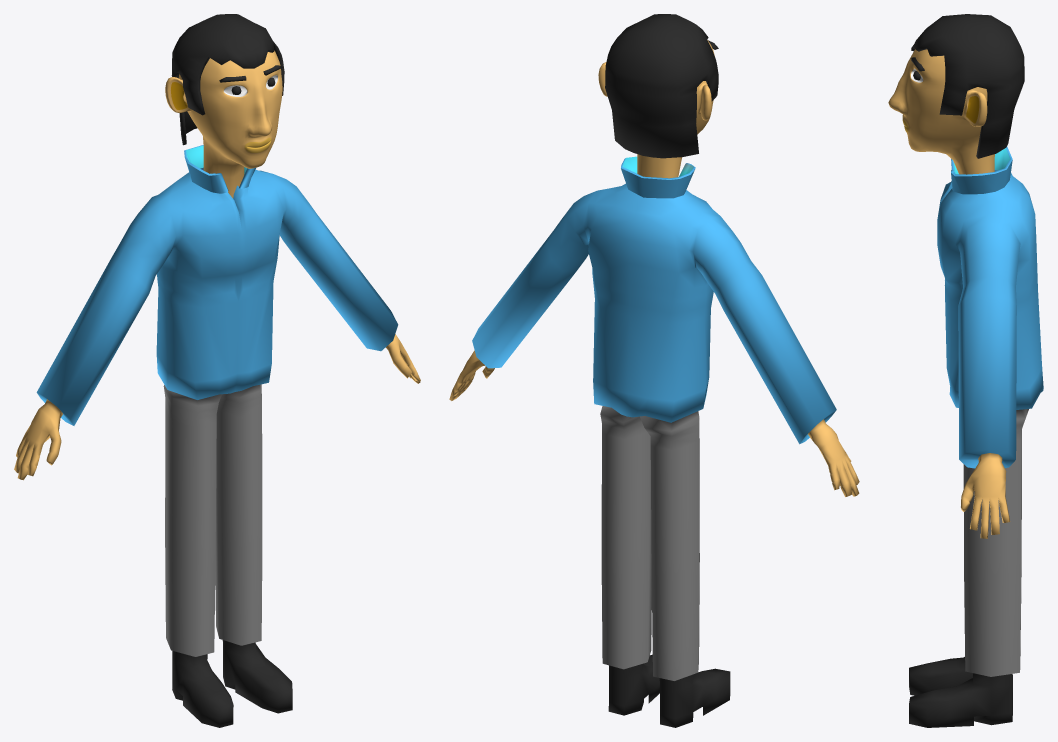
The model's file is Male_1.fbx.
3 views of the same model, side by side, from view 1: azimuth 30°, elevation 25°; view 2: azimuth 150°, elevation 25°; view 3: azimuth 270°, elevation 25° (orthographic).
Parts seen in each view (by area): view 1: Male_1; view 2: Male_1; view 3: Male_1.
Part boxes in pixels (x1,y1,x2,y2): Male_1: (14,14,420,727); Male_1: (449,14,859,727); Male_1: (888,14,1043,727).
Size of the model in its own units: 104 by 168 by 34.33.
1 material, 1 textured.
